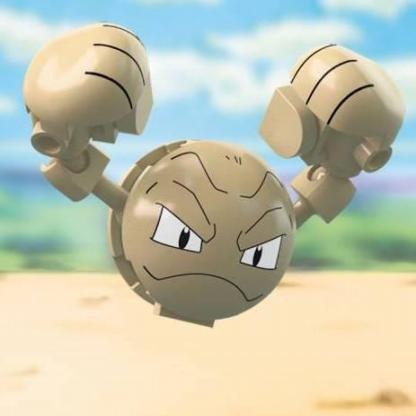Geodude: (1, 1, 416, 412)
